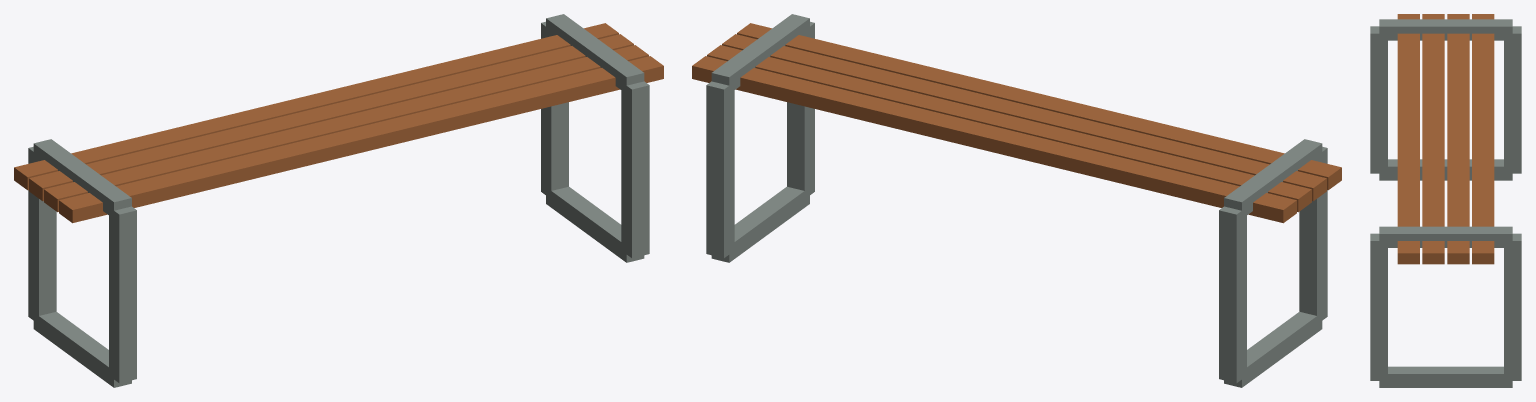
3 views of the same model, side by side, from view 1: azimuth 30°, elevation 25°; view 2: azimuth 150°, elevation 25°; view 3: azimuth 270°, elevation 25° (orthographic). The views are drawn at different scales.
Parts seen in each view (by area): view 1: SW-L504; view 2: SW-L504; view 3: SW-L504.
Part boxes in pixels (<box>): SW-L504: <box>14,14,663,387</box>; SW-L504: <box>692,14,1341,387</box>; SW-L504: <box>1370,14,1521,387</box>.
Size of the model in its own units: 1.5 by 0.45 by 0.4.
